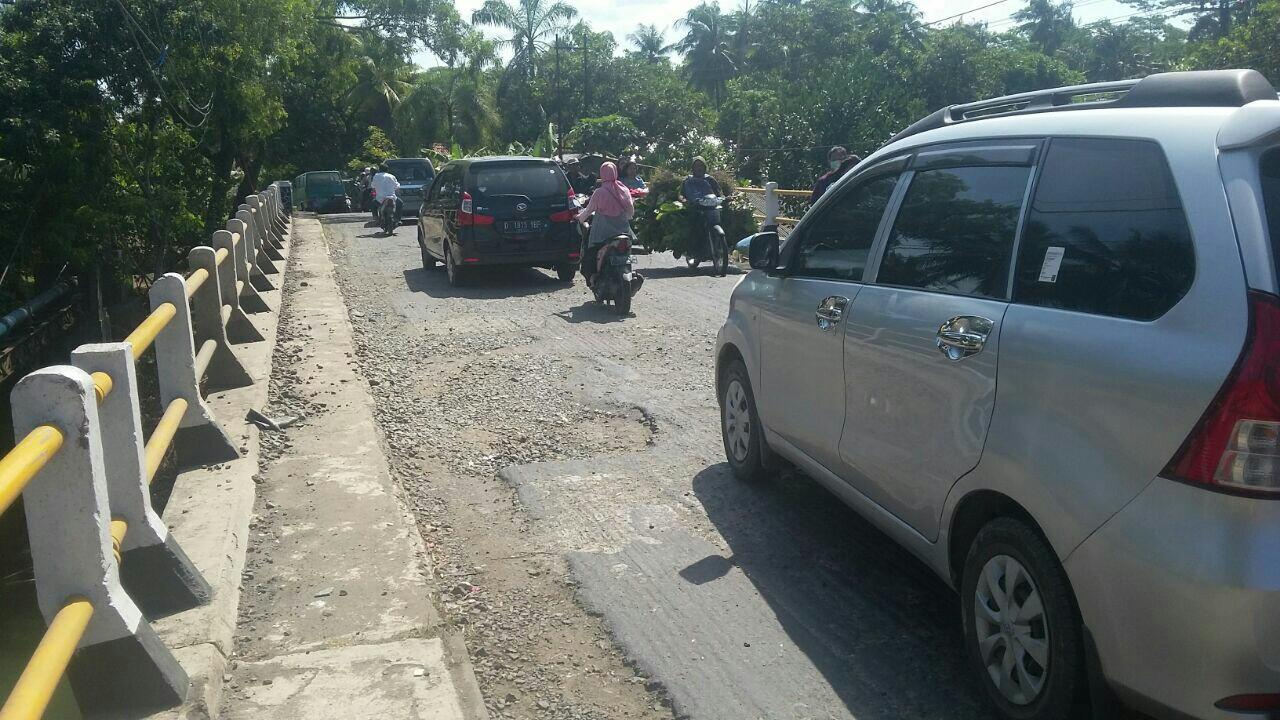Pothole: (365, 317, 759, 720)
